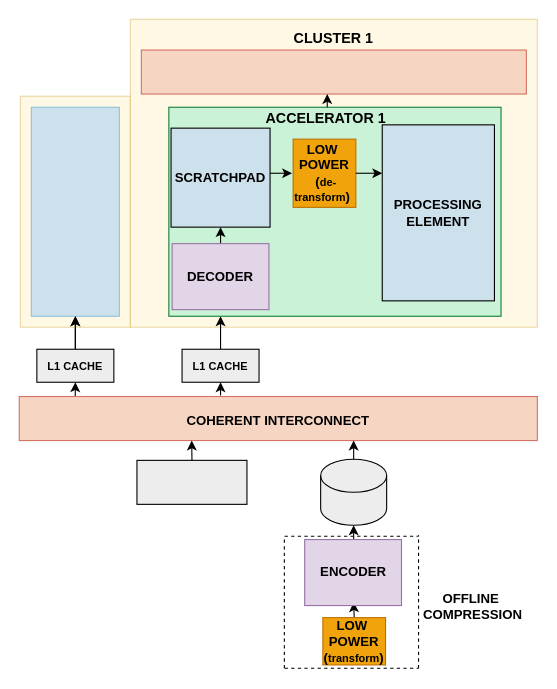
This 557x689 diagram has some shape labels left out. Here are the shapes that lost their labels. From the top down, the centre of each, then its label:
the point at 333,71: NON-COHERENT CLUSTER INTERCONNECT
the point at 74,211: CPU
the point at 191,481: L2 CACHE
the point at 353,491: MEMORY
